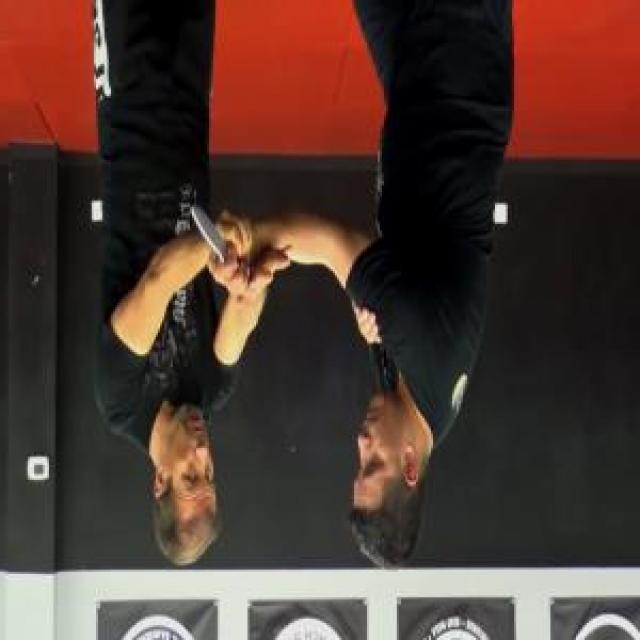knife: (185, 197, 248, 299)
